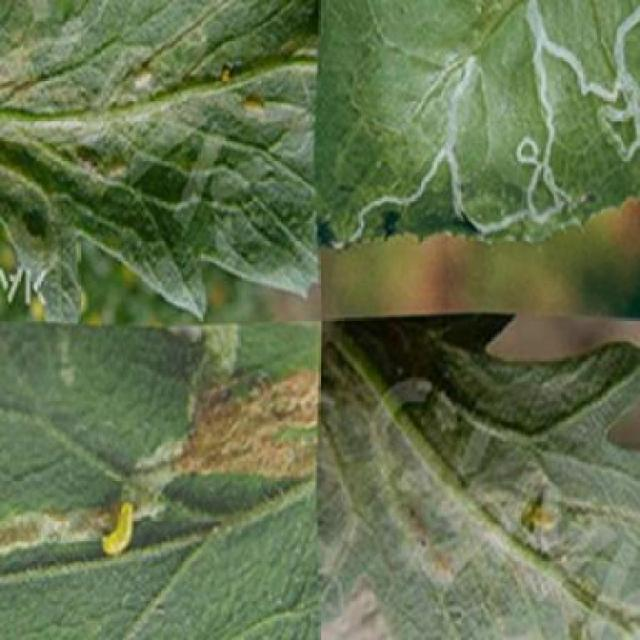whorl-maggot: (101, 497, 139, 561)
